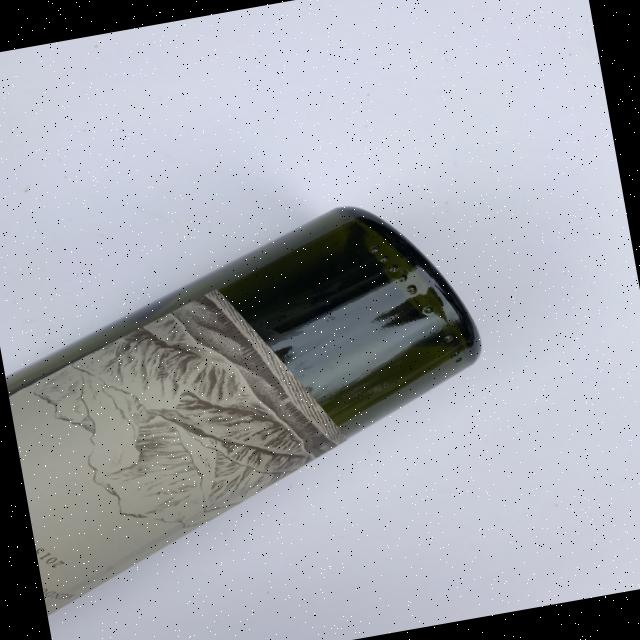glass: (0, 184, 515, 614)
